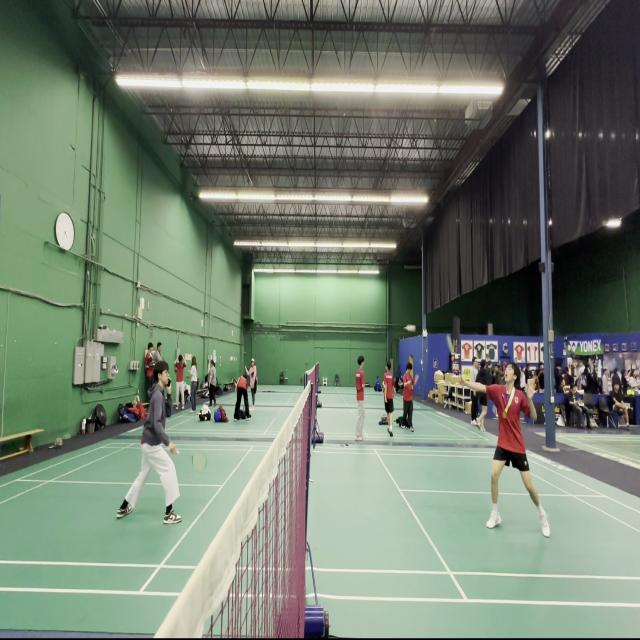shuttlecock: (404, 325, 417, 332)
